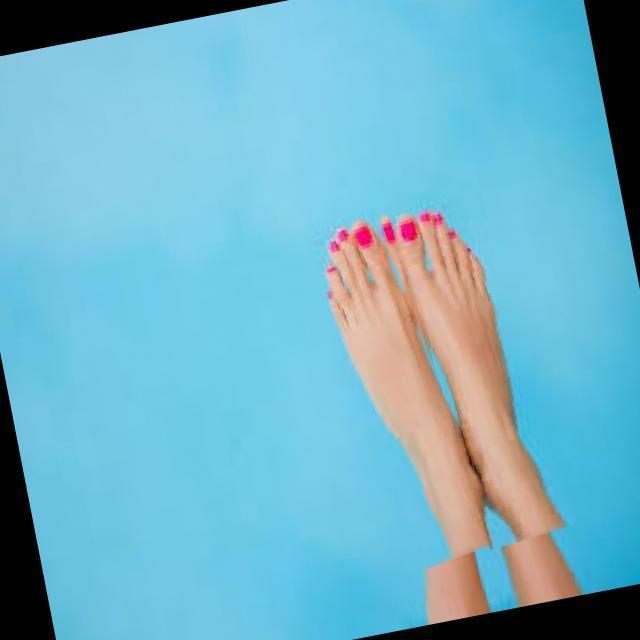No_Shoes: (303, 213, 579, 491)
